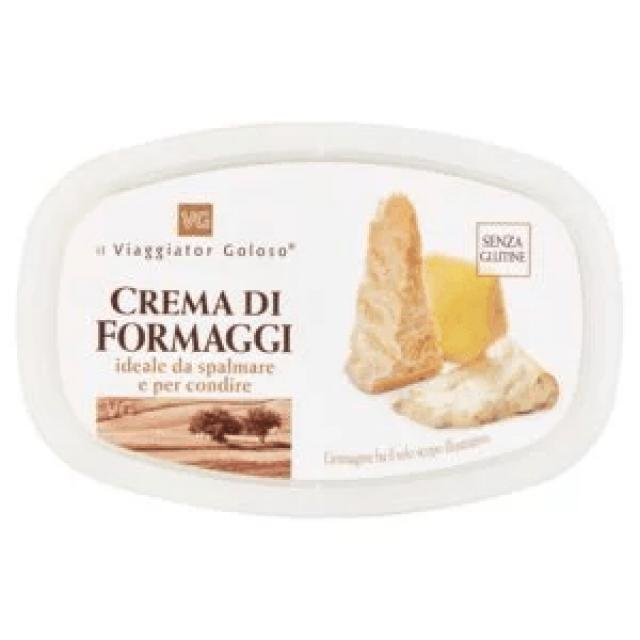cheese: (9, 119, 627, 525)
